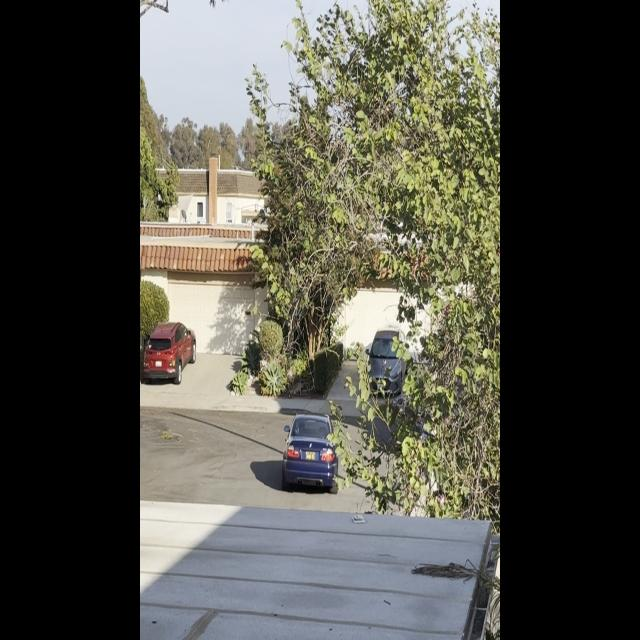Carbeetle: (274, 407, 347, 496)
Civilian: (140, 318, 199, 383), (363, 320, 409, 403)
